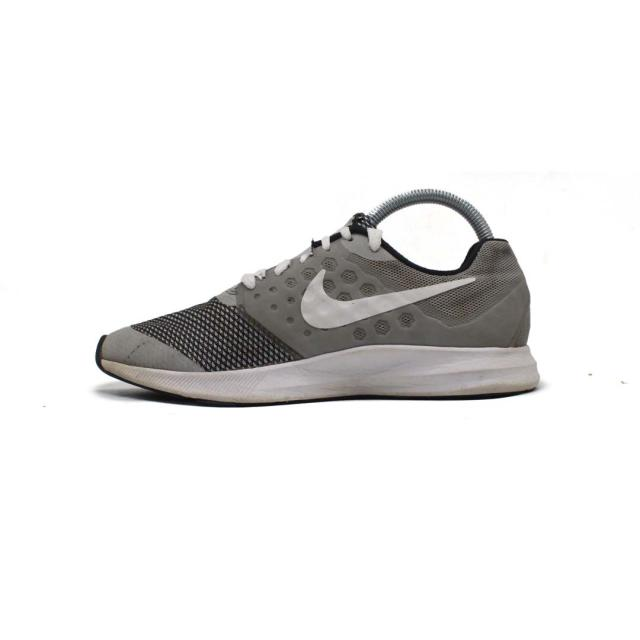heel: (513, 237, 538, 347)
midsole: (84, 337, 550, 403)
uppersole: (93, 210, 512, 359)
